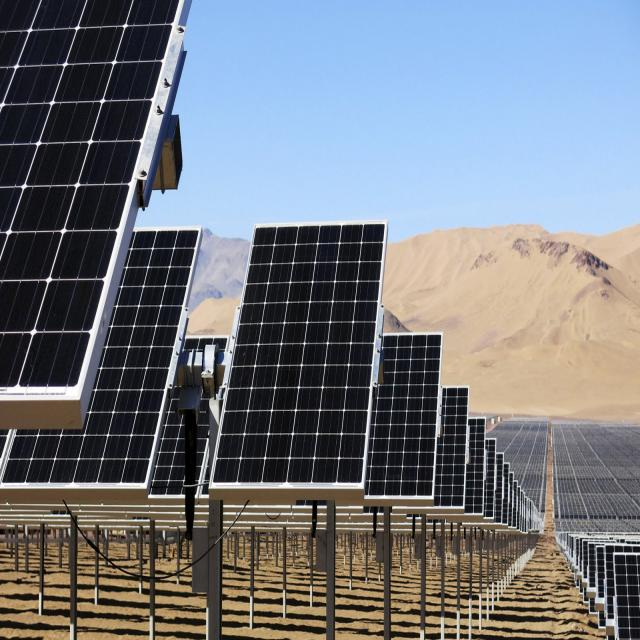clean-solar-panel: (0, 0, 189, 428), (210, 222, 386, 501)
